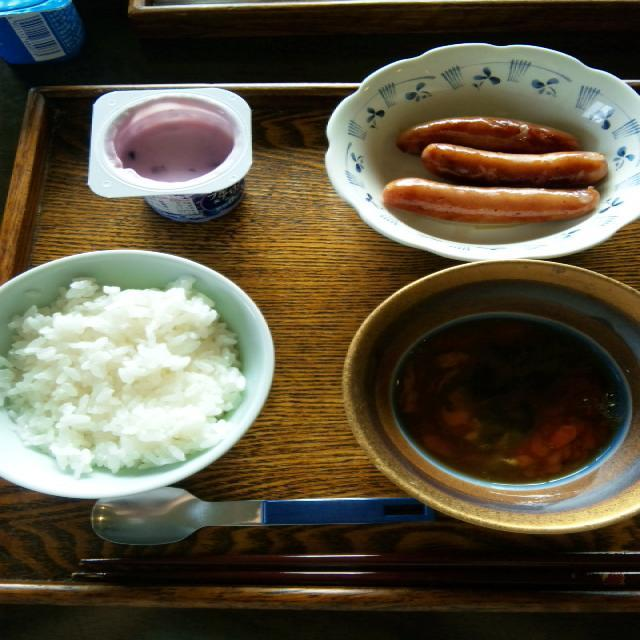Rice: (2, 250, 268, 498)
